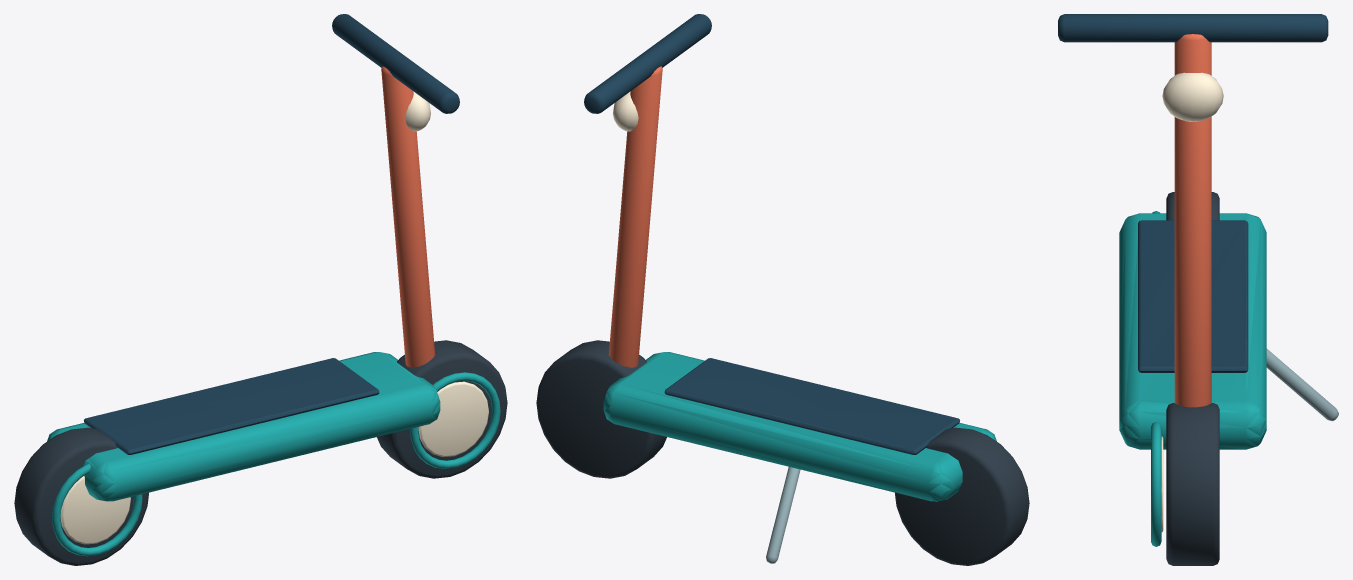
Rendered from Scooter.fbx.
3 renders of one model, left to right at view 1: azimuth 30°, elevation 25°; view 2: azimuth 150°, elevation 25°; view 3: azimuth 270°, elevation 25°, orthographic. The views are drawn at different scales.
Visible parts, largest first — view 1: GEO-Body; view 2: GEO-Body; view 3: GEO-Body.
Boxes of the visible parts, box(x1,y1,x2,y2) form: GEO-Body: box(14, 14, 507, 565); GEO-Body: box(536, 14, 1029, 565); GEO-Body: box(1058, 14, 1338, 565).
Size of the model in its own units: 1.62 by 1.4 by 0.6864.
